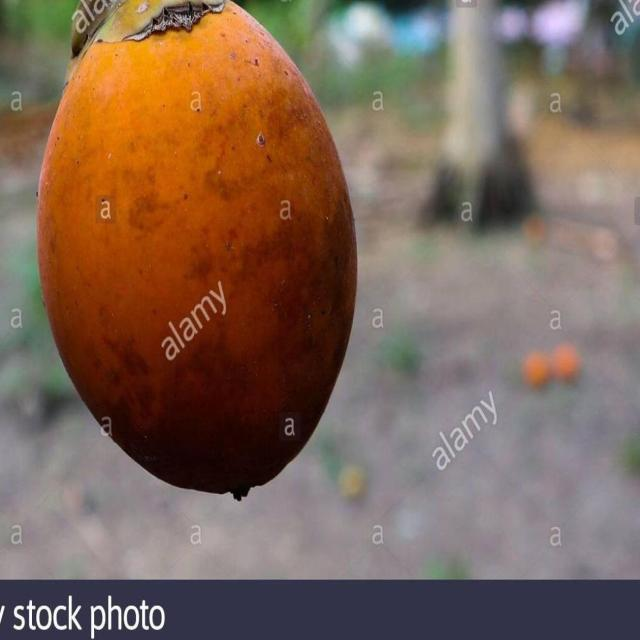good: (35, 0, 358, 501)
